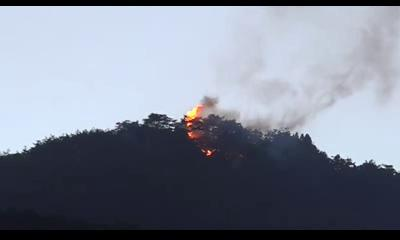fire: (187, 100, 202, 120)
smoke: (283, 80, 354, 108), (205, 94, 242, 116)
